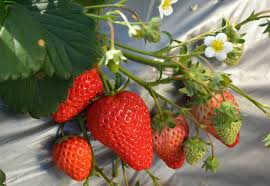ripe: (89, 88, 156, 174), (41, 57, 104, 126), (51, 132, 97, 182), (167, 144, 186, 172)
unripe: (188, 85, 238, 157), (149, 109, 189, 164), (214, 106, 243, 151), (185, 134, 210, 165)
